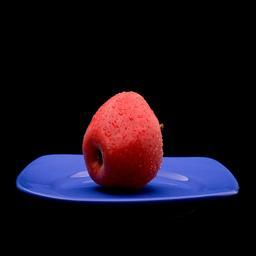apple: (79, 92, 162, 192)
